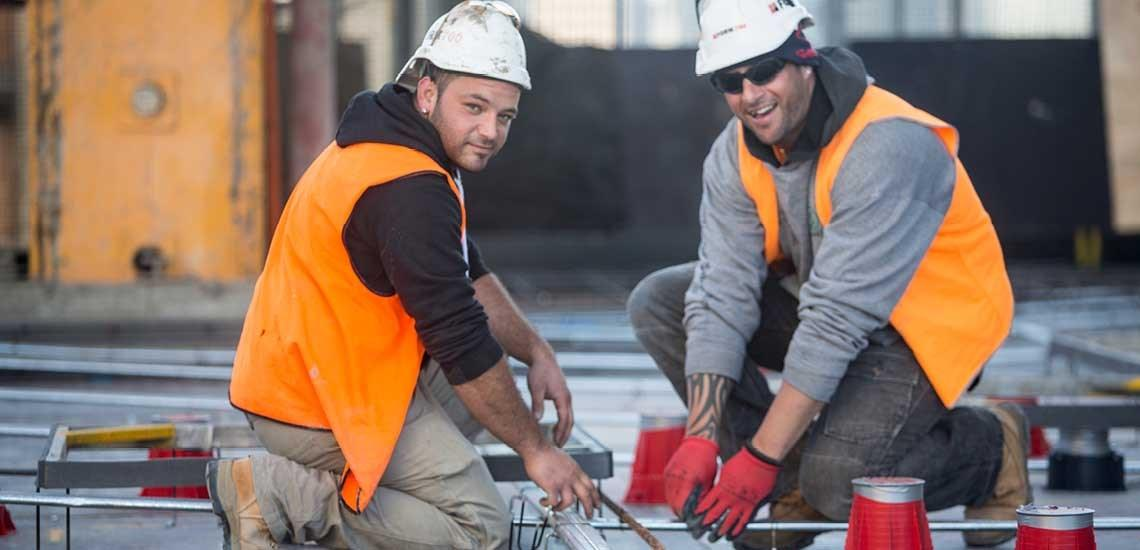helmet: (400, 1, 534, 91), (686, 1, 817, 69)
